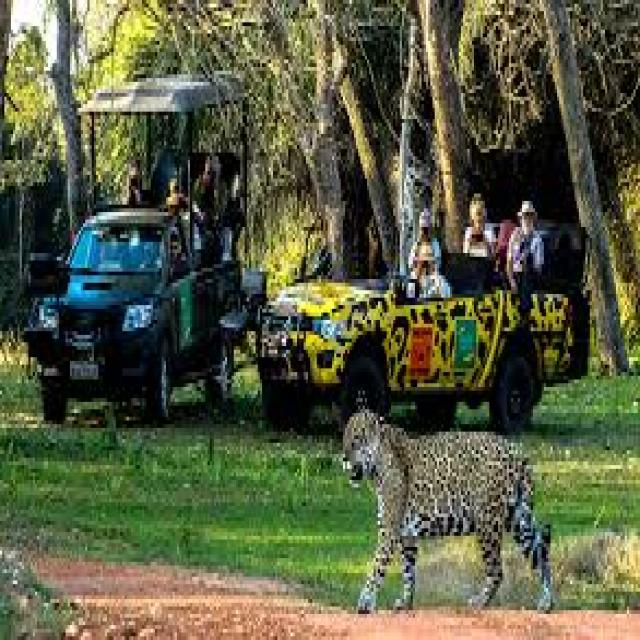Jaguar: (343, 398, 555, 622)
